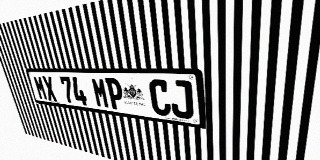4: (70, 77, 88, 106)
7: (59, 76, 76, 104)
C: (148, 79, 172, 117)
J: (169, 80, 194, 120)
M: (91, 77, 110, 109), (33, 76, 48, 100)
P: (105, 78, 125, 111)
X: (41, 76, 58, 102)
